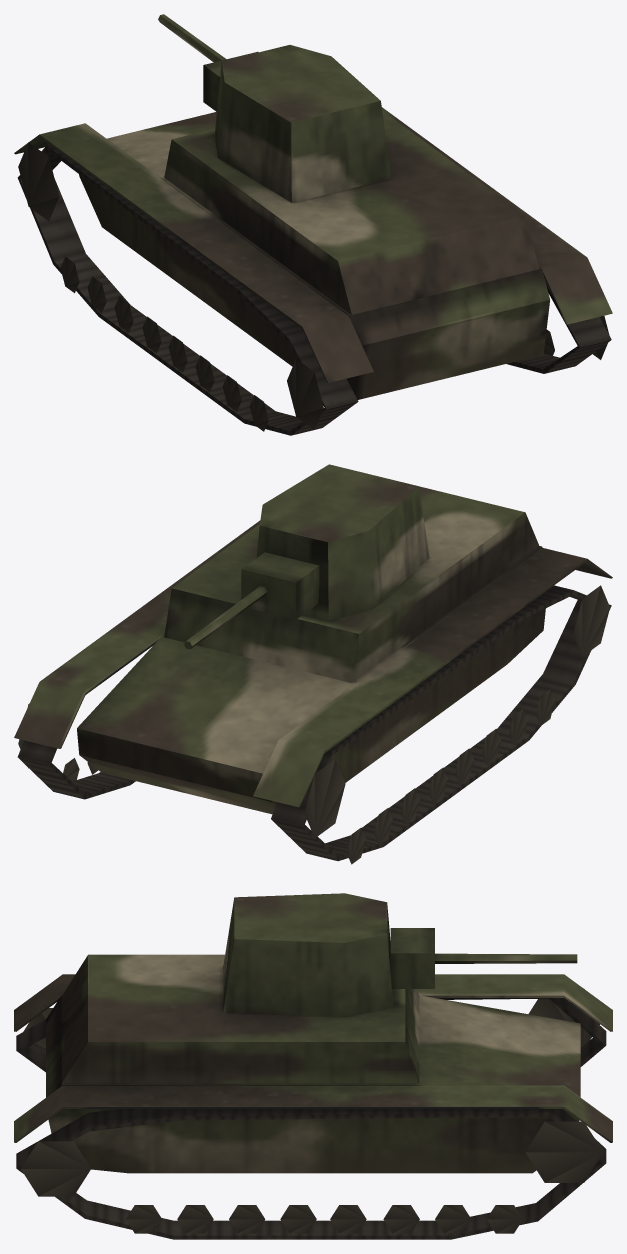
The picture shows the model from 3 angles, top to bottom: view 1: azimuth 30°, elevation 25°; view 2: azimuth 150°, elevation 25°; view 3: azimuth 270°, elevation 25°; orthographic projection. The views are drawn at different scales.
Parts seen in each view (by area): view 1: Chassis, Tourelle_01, Chenille_Gauche_01, Chenille_Droite_01, Roue_G1, Roue_G10, Axe_Canon_01, Canon_01; view 2: Chassis, Tourelle_01, Chenille_Gauche_01, Axe_Canon_01, Chenille_Droite_01, Roue_G1, Roue_G10, Canon_01; view 3: Chassis, Tourelle_01, Chenille_Droite_01, Roue_D1, Roue_D10, Axe_Canon_01, Chenille_Gauche_01, Canon_01, Roue_D3, Roue_D5, Roue_D6, Roue_D8 (+5 smaller).
Part boxes in pixels (x1,y1,x2,y2): Chassis: (14,107,612,399); Tourelle_01: (214,45,391,202); Chenille_Gauche_01: (17,144,358,435); Chenille_Droite_01: (506,278,611,373); Roue_G1: (18,142,59,221); Roue_G10: (287,358,323,429); Axe_Canon_01: (203,51,258,111); Canon_01: (158,14,226,62); Chassis: (14,486,612,814); Tourelle_01: (256,464,429,620); Chenille_Gauche_01: (271,585,611,861); Axe_Canon_01: (241,552,319,619); Chenille_Droite_01: (17,740,135,799); Roue_G1: (304,759,345,838); Roue_G10: (573,585,609,656); Canon_01: (184,586,267,649); Chassis: (14,954,612,1173); Tourelle_01: (223,893,393,1017); Chenille_Droite_01: (16,1109,606,1239); Roue_D1: (525,1121,603,1182); Roue_D10: (21,1141,90,1196); Axe_Canon_01: (390,928,434,988); Chenille_Gauche_01: (16,998,606,1072); Canon_01: (435,953,577,963); Roue_D3: (435,1205,471,1233); Roue_D5: (330,1205,366,1233); Roue_D6: (280,1205,316,1233); Roue_D8: (177,1205,213,1233).
Bounding box in the file's own units: 241 × 458 × 208.
Materials: 1 (1 with a texture image).
